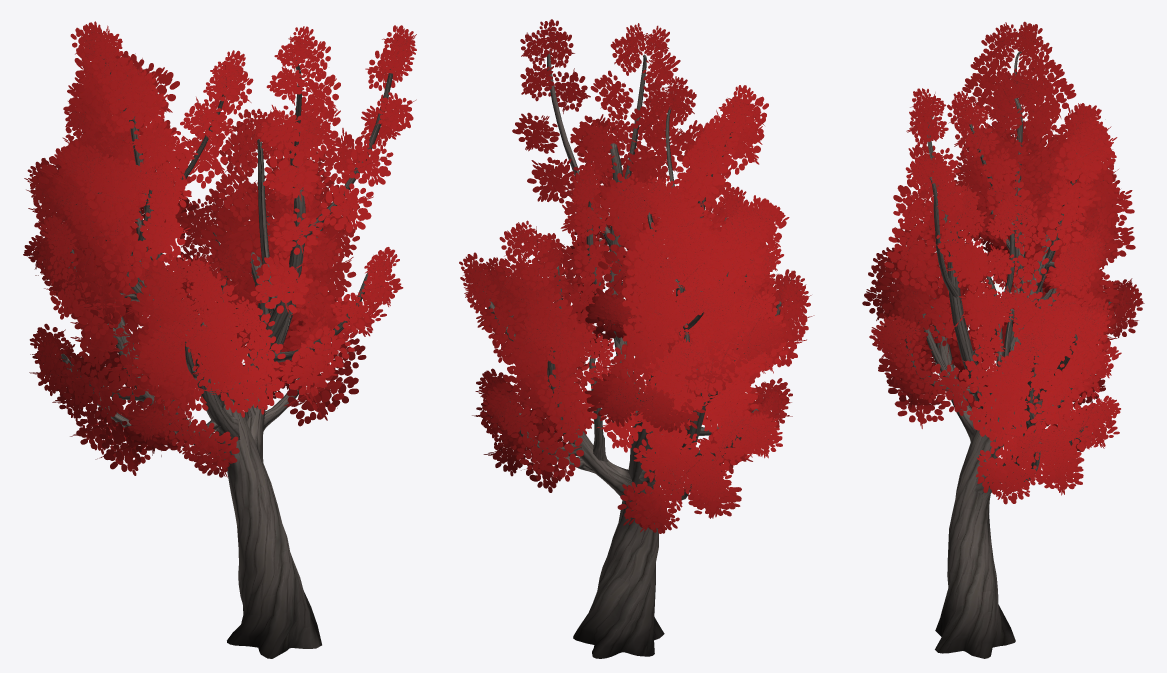
The model's file is twisted-tree-2.glb.
3 views of the same model, side by side, from view 1: azimuth 30°, elevation 25°; view 2: azimuth 150°, elevation 25°; view 3: azimuth 270°, elevation 25° (orthographic). The views are drawn at different scales.
Visible parts, largest first — view 1: TwistedTree_2; view 2: TwistedTree_2; view 3: TwistedTree_2.
Boxes of the visible parts, x1,y1,x2,y2 form: TwistedTree_2: (23, 21, 416, 658); TwistedTree_2: (459, 19, 814, 658); TwistedTree_2: (862, 21, 1144, 658).
Size of the model in its own units: 10.56 by 18.95 by 9.2.
2 materials, 2 textured.
